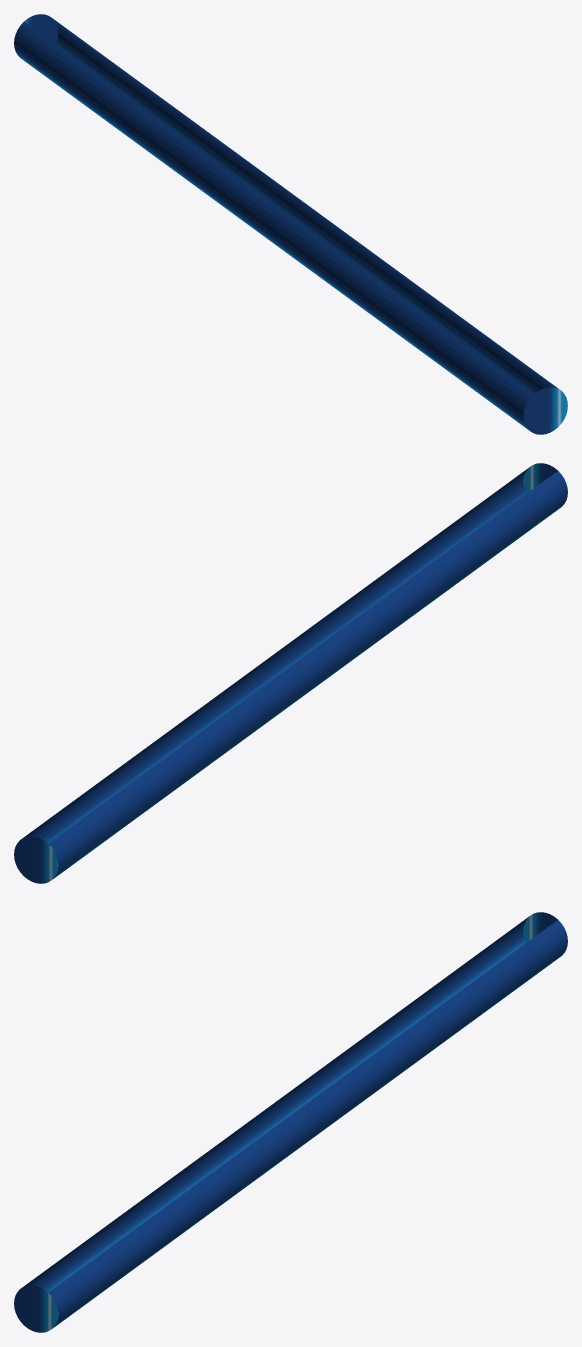
Rendered from gd_shiyan_b.gltf.
The picture shows the model from 3 angles, top to bottom: view 1: azimuth 30°, elevation 25°; view 2: azimuth 150°, elevation 25°; view 3: azimuth 330°, elevation 25°; orthographic projection.
Visible parts, largest first — view 1: Cylinder; view 2: Cylinder; view 3: Cylinder.
Part boxes in pixels (box(x1,y1,x2,y2)): Cylinder: box(14, 14, 567, 434); Cylinder: box(14, 463, 567, 883); Cylinder: box(14, 912, 567, 1332).
Size of the model in its own units: 2 by 2 by 39.8.
1 material, 1 textured.
